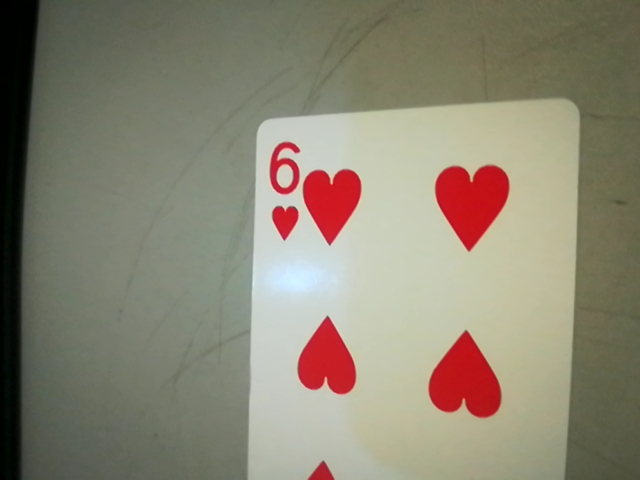hx 6: (259, 134, 308, 245)
